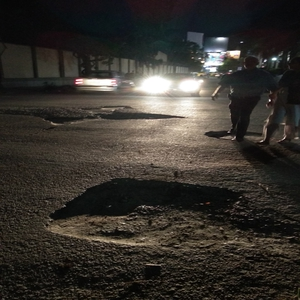pothole: (43, 177, 295, 257), (44, 108, 184, 129), (207, 127, 300, 148)
